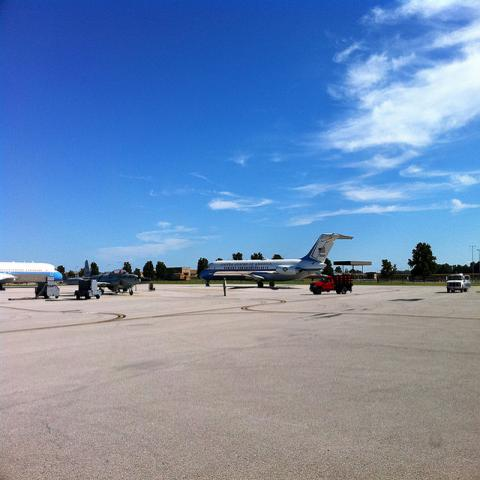truck: (309, 274, 354, 295), (74, 280, 102, 299), (447, 273, 471, 293)
